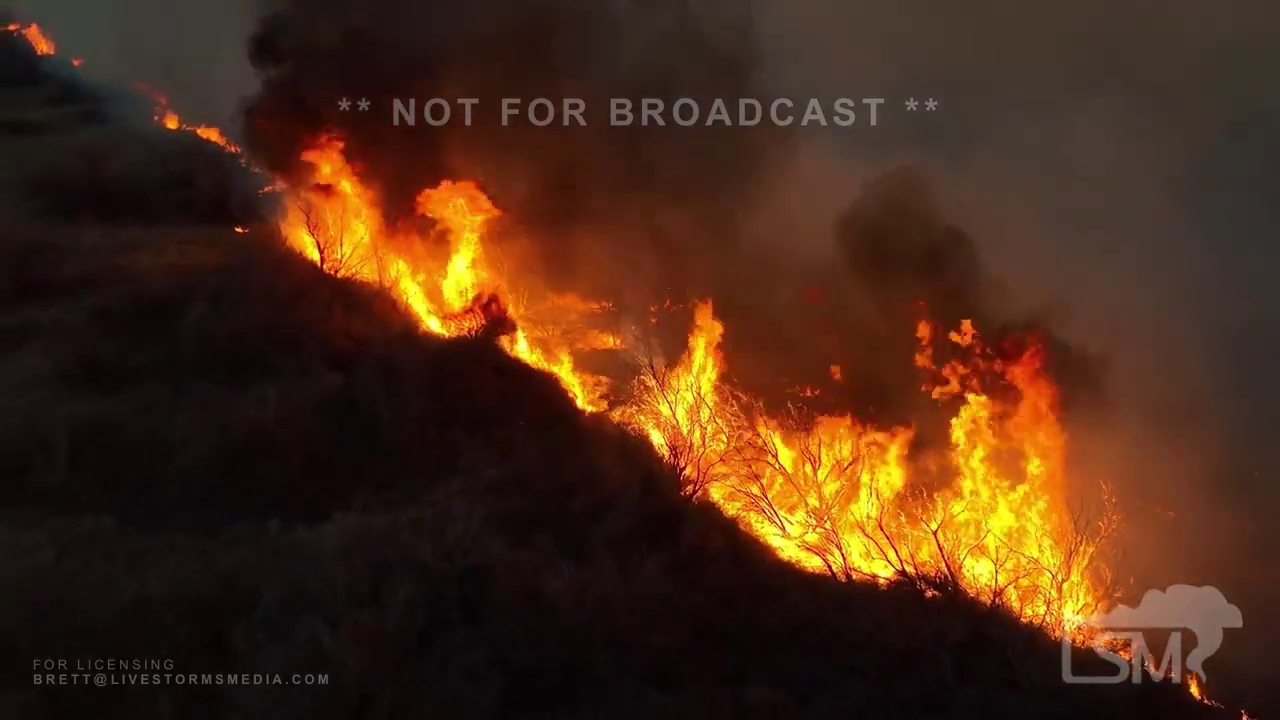forest_fire: (267, 134, 1101, 639), (154, 96, 246, 161), (5, 23, 55, 56)
